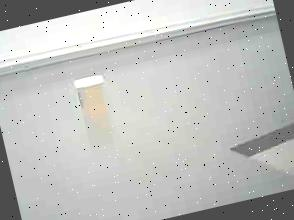Bottle B: (63, 68, 120, 133)
